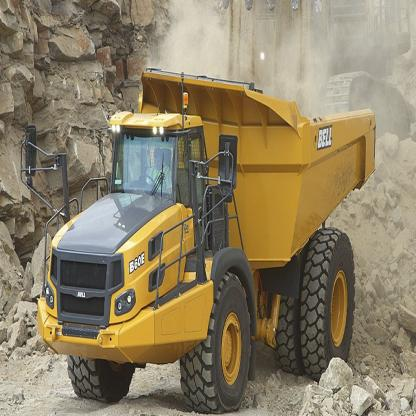dump_truck: (32, 52, 386, 400)
